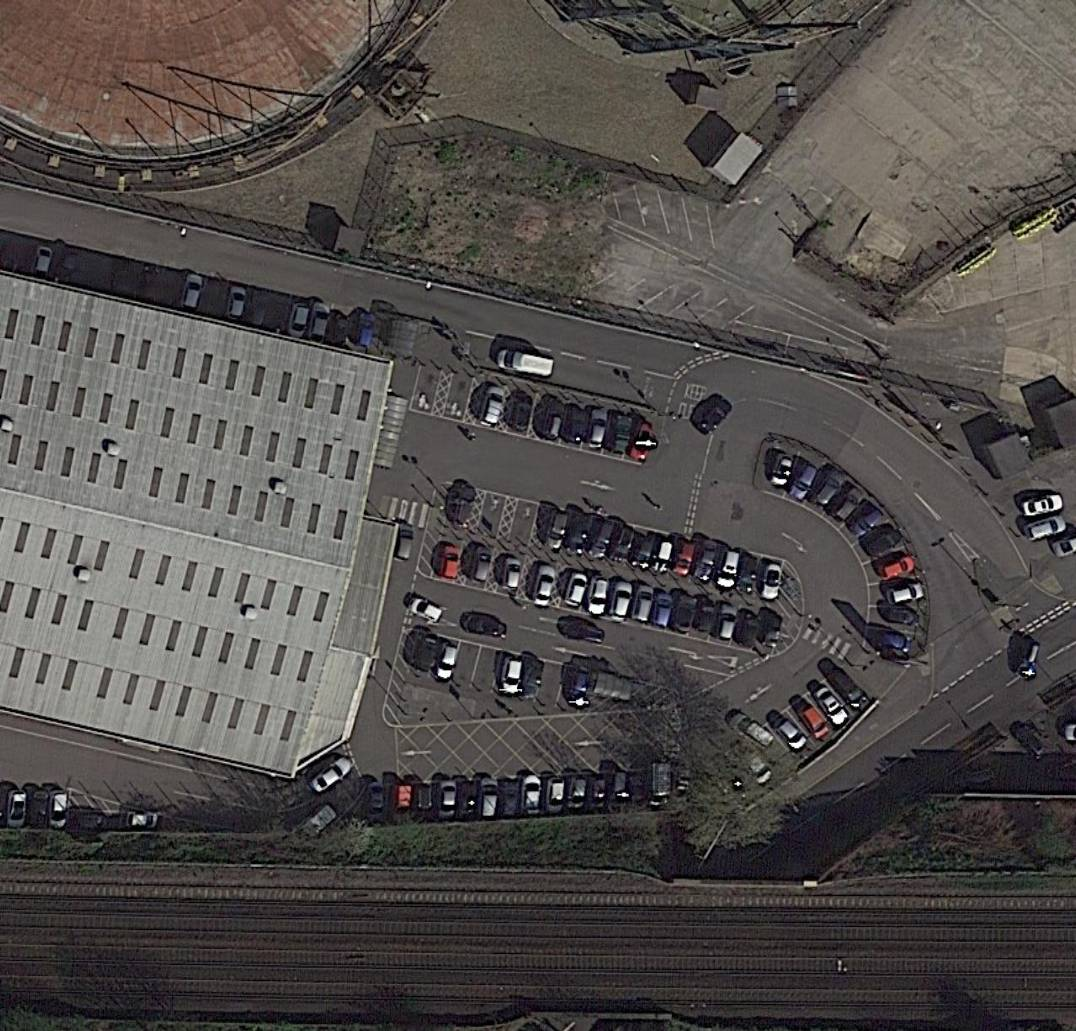large vehicle: (647, 761, 673, 809)
small vehicle: (822, 665, 873, 716), (728, 737, 778, 788), (305, 751, 355, 798), (725, 708, 777, 753), (494, 346, 557, 381), (809, 681, 852, 731), (806, 464, 849, 512), (767, 712, 812, 755), (826, 482, 867, 526), (861, 525, 908, 563), (693, 395, 735, 437), (791, 699, 832, 742), (844, 501, 887, 542), (583, 514, 617, 563), (1011, 720, 1050, 762), (785, 460, 820, 505), (475, 383, 508, 430), (561, 511, 593, 559), (409, 631, 443, 676), (605, 522, 638, 568), (1020, 513, 1068, 544), (690, 539, 722, 585), (605, 578, 637, 624), (714, 546, 744, 594), (449, 483, 479, 531), (460, 611, 509, 640), (517, 657, 547, 704), (304, 300, 334, 347), (629, 529, 661, 573), (1017, 491, 1065, 520), (626, 417, 656, 463), (559, 619, 608, 647), (1013, 638, 1043, 683), (873, 553, 918, 583), (543, 508, 572, 554), (670, 592, 700, 636), (563, 664, 592, 709), (530, 564, 559, 609), (583, 406, 611, 452), (765, 449, 797, 489), (496, 654, 525, 698), (606, 413, 635, 457), (628, 582, 657, 626), (882, 580, 926, 609), (710, 600, 739, 644), (432, 641, 460, 686), (540, 399, 568, 444), (177, 272, 206, 315), (733, 554, 761, 598), (648, 590, 678, 631), (518, 772, 544, 819), (669, 538, 698, 580), (406, 594, 445, 625), (868, 630, 914, 656), (475, 776, 501, 822), (562, 570, 591, 611), (434, 543, 463, 584), (467, 544, 495, 586), (584, 574, 610, 619), (223, 283, 250, 326), (756, 610, 785, 650), (649, 535, 677, 576), (509, 391, 536, 433), (285, 300, 313, 340), (734, 608, 760, 650), (606, 770, 630, 815), (759, 560, 784, 603), (26, 789, 52, 830), (436, 778, 459, 824), (364, 779, 386, 827), (562, 403, 587, 445), (391, 522, 416, 564), (565, 773, 590, 815), (4, 789, 29, 830), (692, 597, 718, 636), (388, 783, 412, 825), (498, 779, 522, 821), (29, 244, 57, 280), (878, 605, 921, 628), (353, 310, 378, 349), (48, 789, 70, 832), (544, 775, 566, 818), (456, 781, 478, 823), (67, 812, 112, 832), (120, 811, 162, 831), (626, 771, 647, 810), (330, 313, 353, 348), (500, 556, 522, 592), (587, 776, 608, 813), (415, 784, 434, 824)
